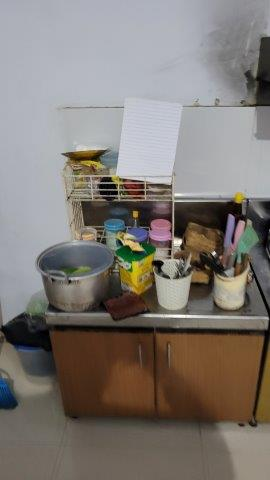kertas: (120, 97, 179, 186)
